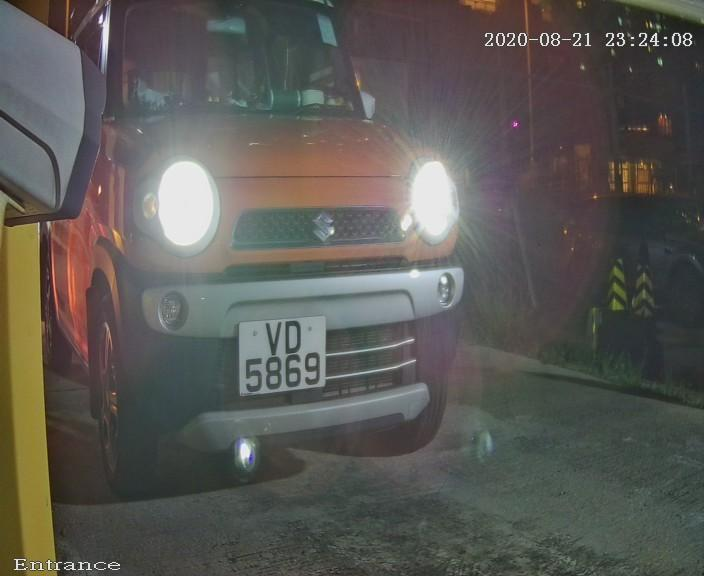Car: (29, 1, 529, 543)
License Plate: (230, 299, 343, 407)
